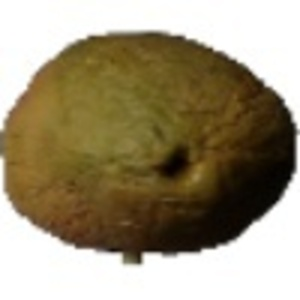mamão: (5, 25, 293, 252)
